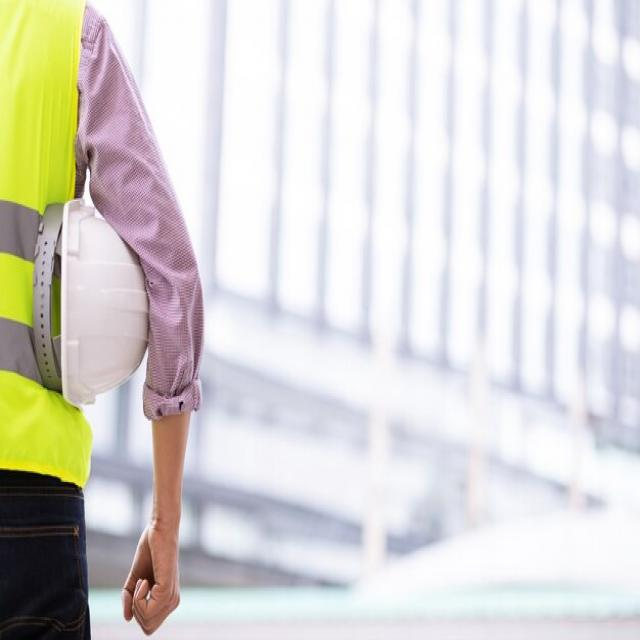Reflective-Jacket: (0, 1, 98, 492)
Safety-Helmet: (26, 184, 172, 420)
